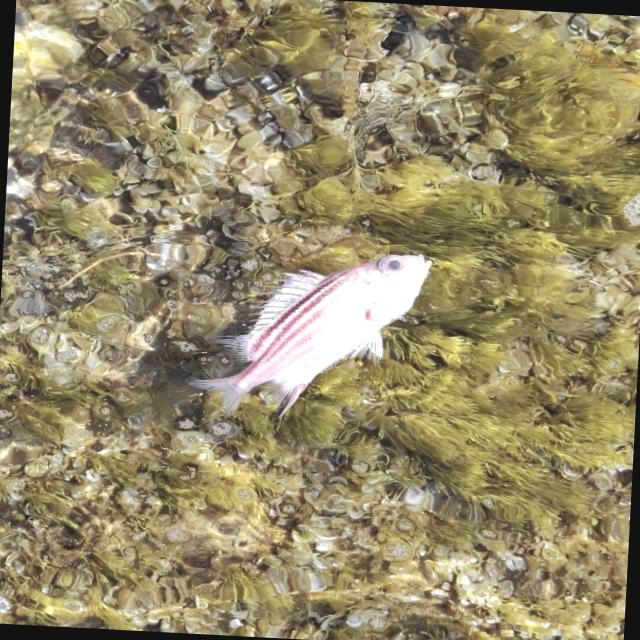Asker Baligi: (185, 240, 436, 430)
